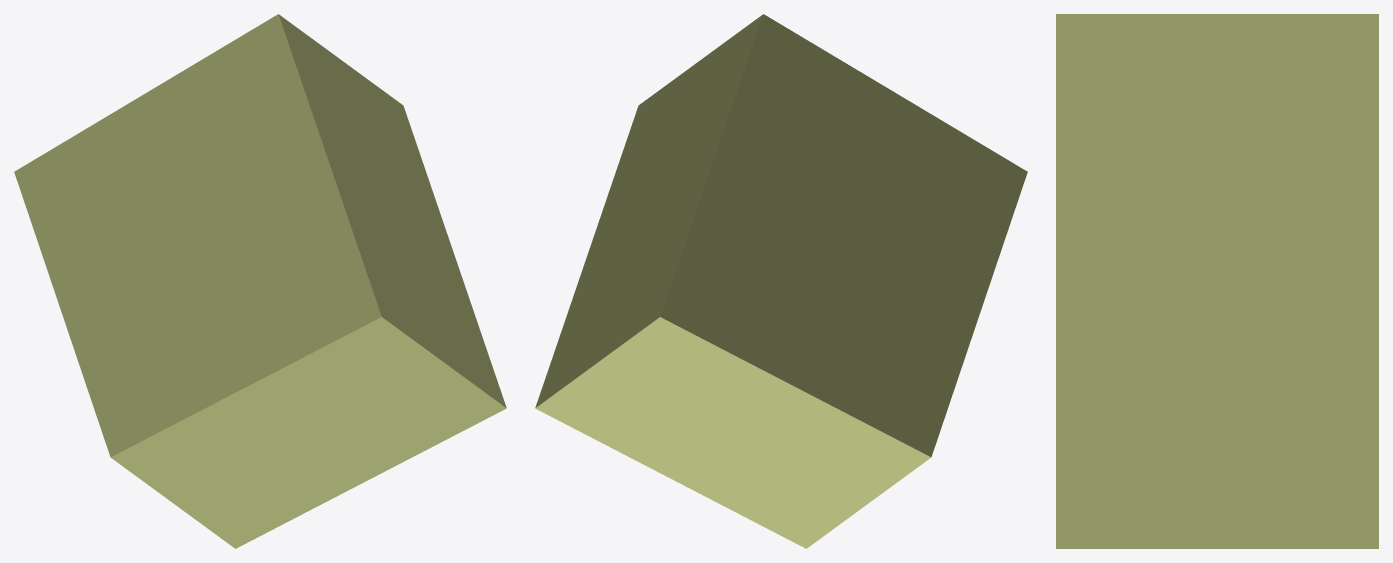
3 views of the same model, side by side, from view 1: azimuth 30°, elevation 25°; view 2: azimuth 150°, elevation 25°; view 3: azimuth 270°, elevation 25° (orthographic). The views are drawn at different scales.
Parts seen in each view (by area): view 1: 0_1_0_2_1_3_1_3_3_1; view 2: 0_1_0_2_1_3_1_3_3_1; view 3: 0_1_0_2_1_3_1_3_3_1.
Boxes of the visible parts, x1=… form: 0_1_0_2_1_3_1_3_3_1: x1=14, y1=14, x2=506, y2=548; 0_1_0_2_1_3_1_3_3_1: x1=535, y1=14, x2=1027, y2=548; 0_1_0_2_1_3_1_3_3_1: x1=1056, y1=14, x2=1378, y2=548.
Bounding box in the file's own units: 10.19 × 10.66 × 6.
